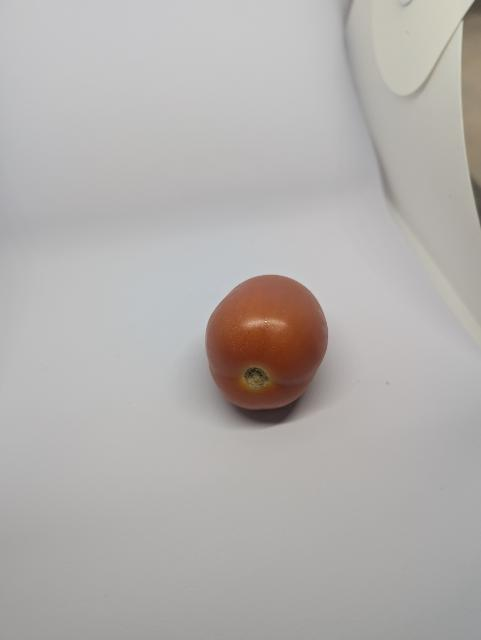red: (200, 268, 334, 425)
